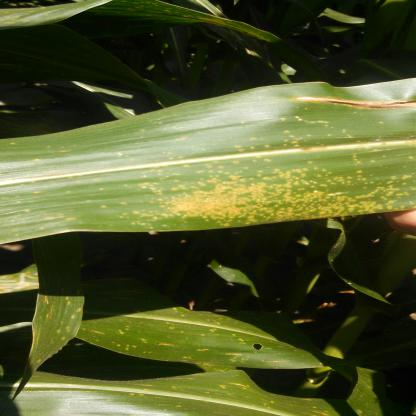corn rust leaf: (4, 77, 416, 249)
